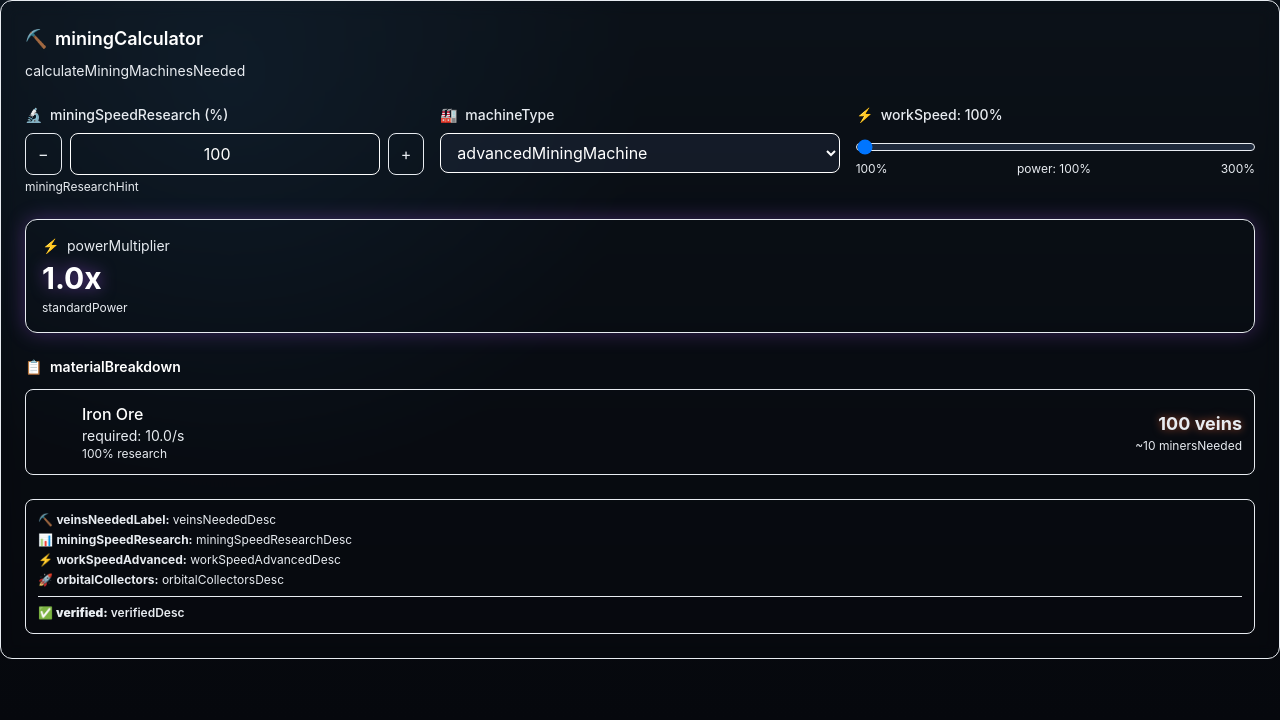
MiningCalculator › Input Controls › should increase miningSpeedBonus with plus button
This screenshot has width=1280, height=720.
Click the button "+" at (406, 154), box [388,133,424,175]
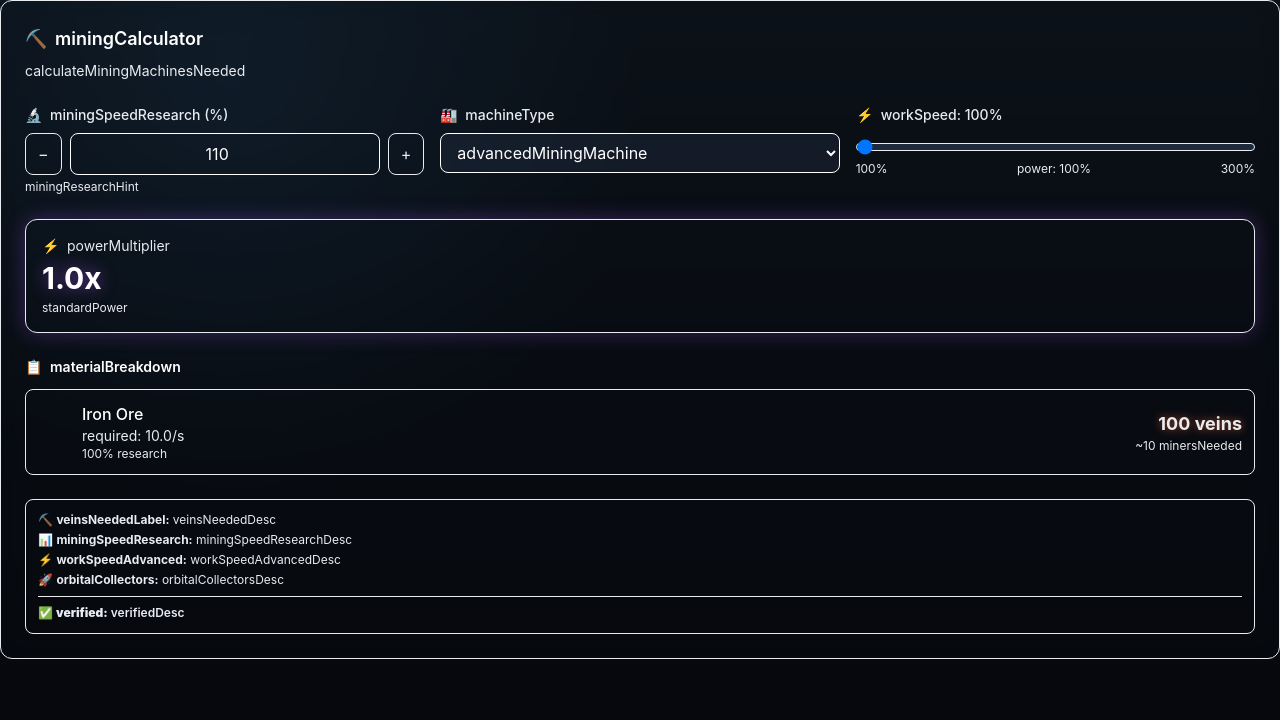
Now the number field holds "110", box [70,133,380,175]
